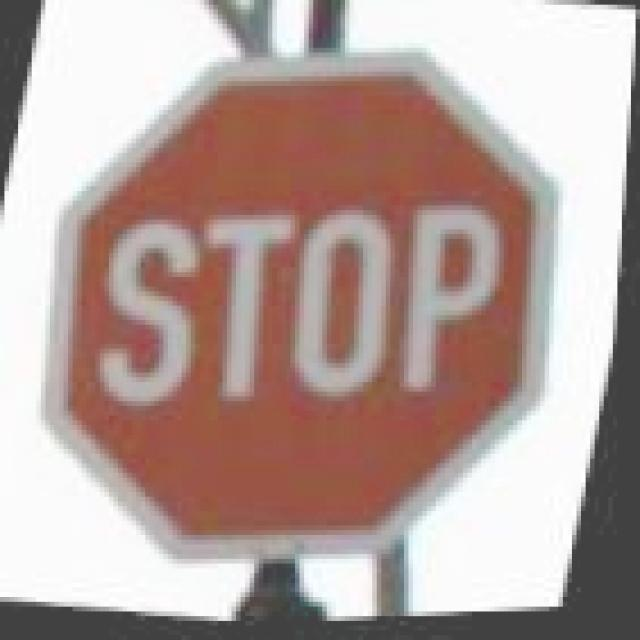stop_sign: (0, 0, 613, 626)
